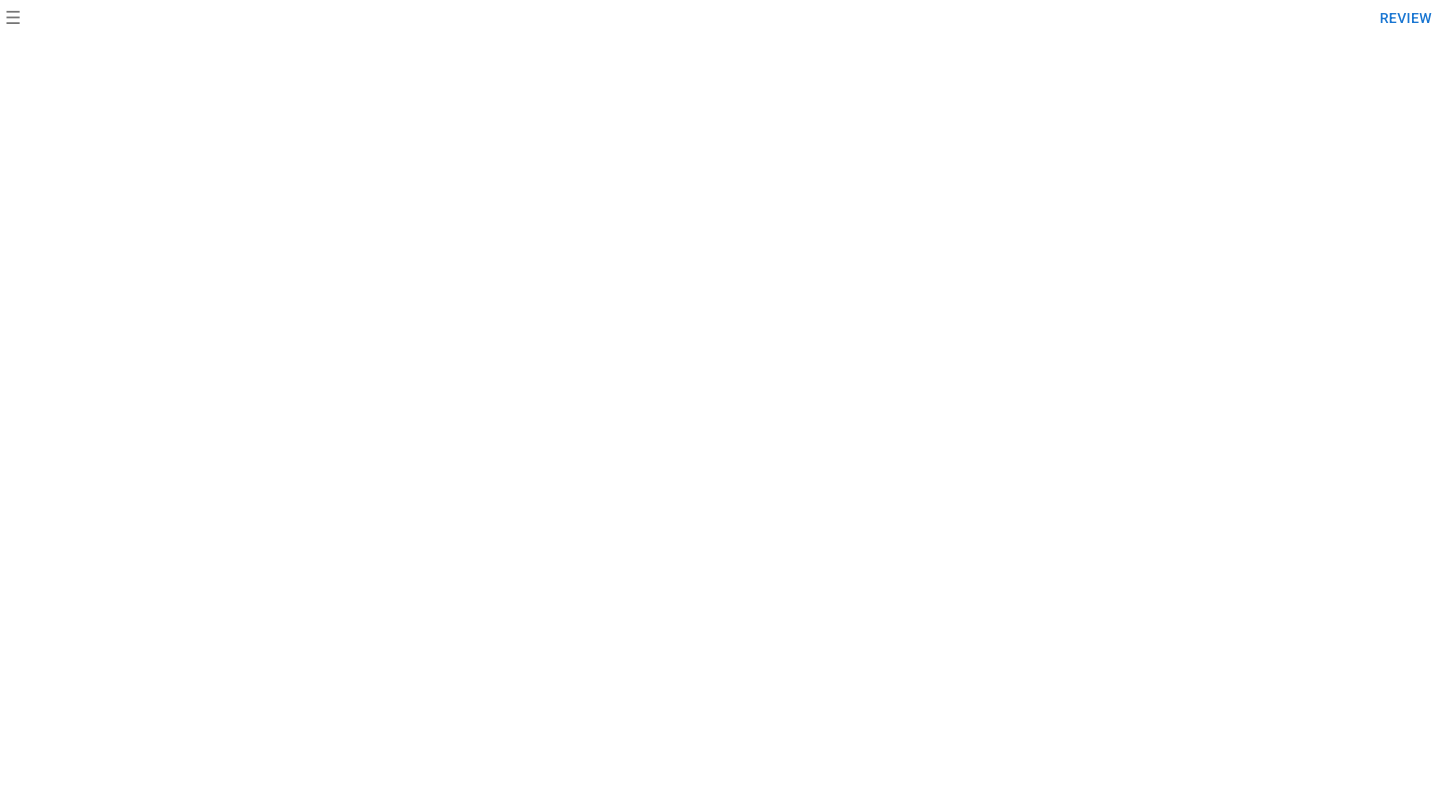
Test: GameToolbar › opens the Match Settings dialog pre-filled with the current config and saves edits
Later steps or results of the test are not shown.
Step 1. Click the button named "Open menu" → (13, 18), box [0,2,26,34]
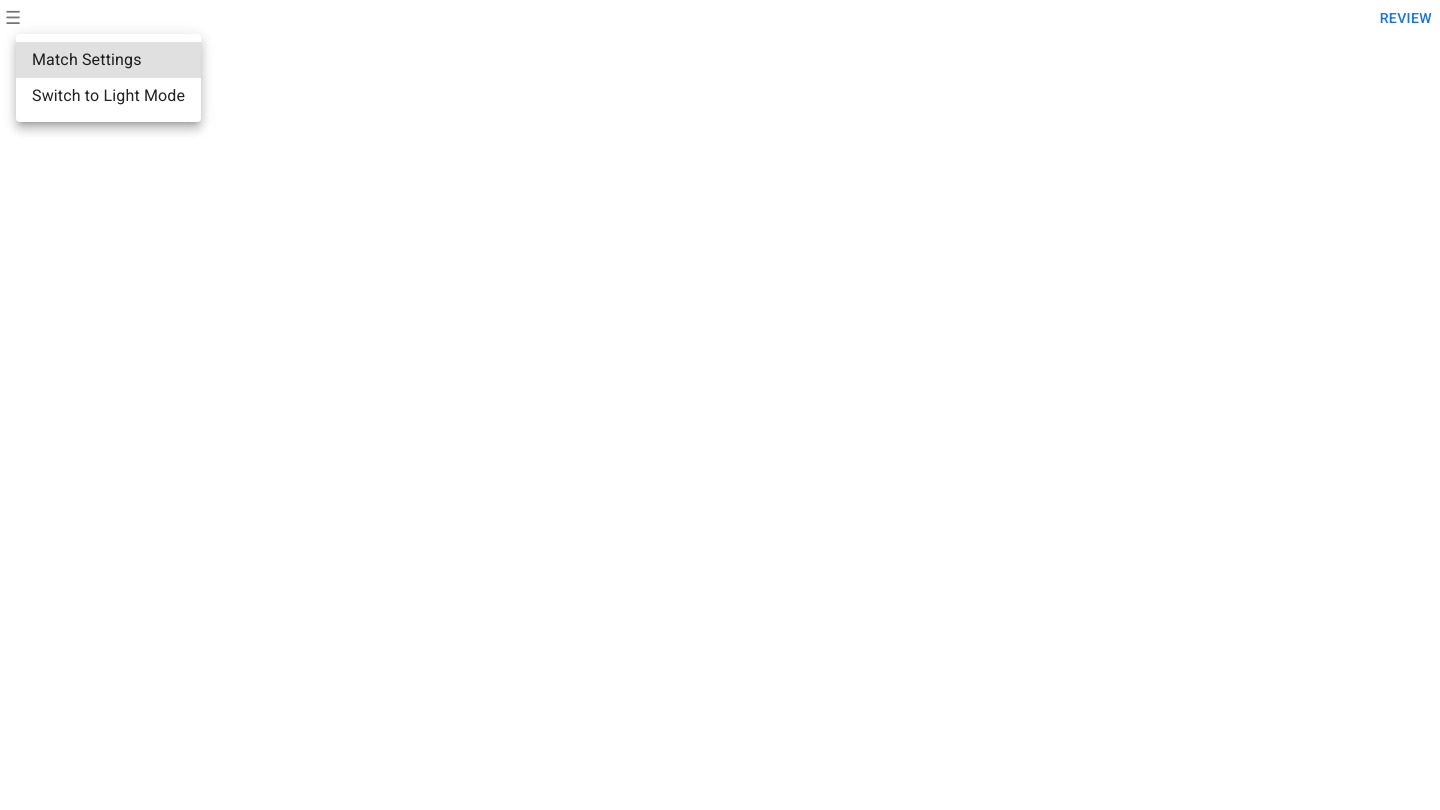
Step 2. Click the menu item "Match Settings" → (109, 60), box [16,42,201,78]
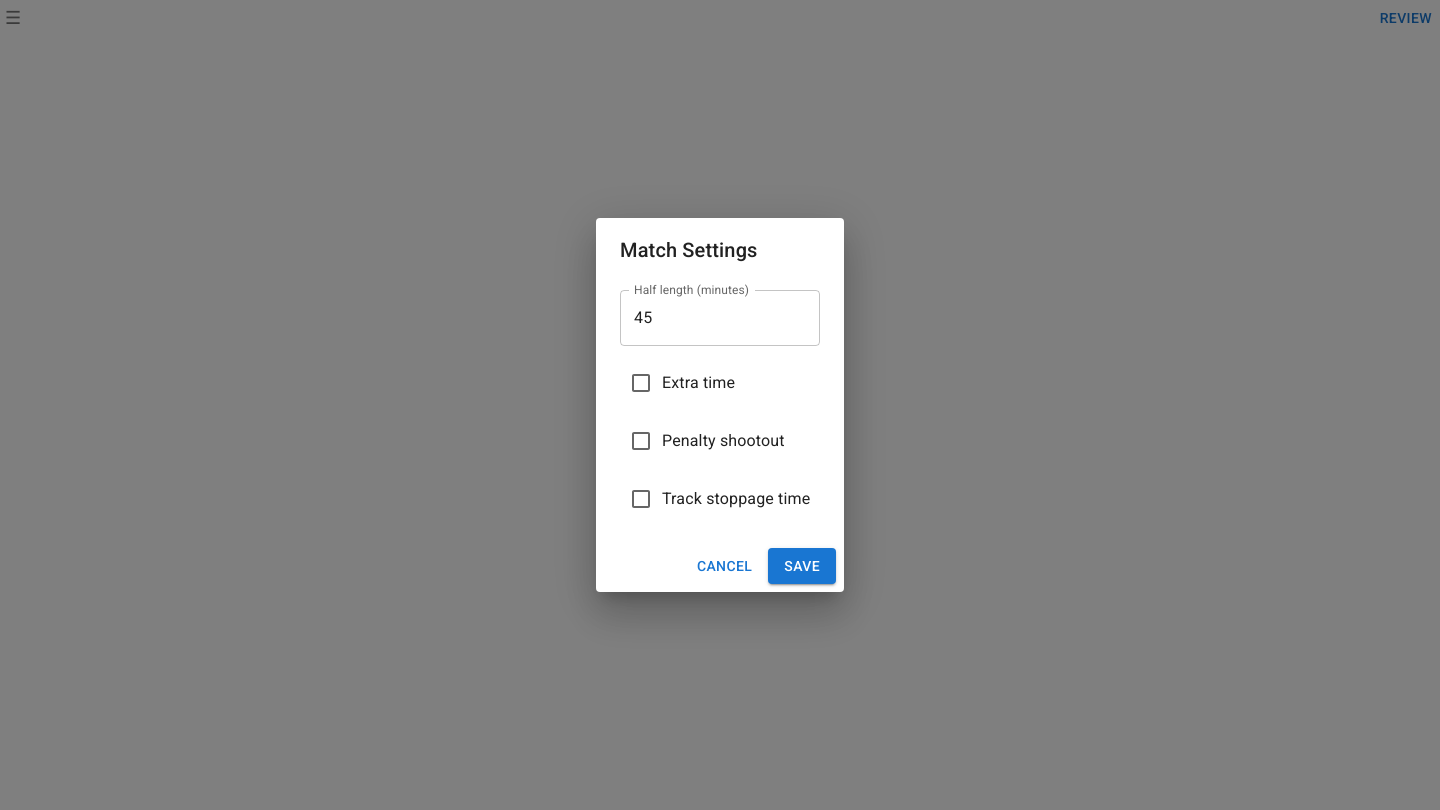
Now the field labelled "Half length (minutes)" holds "45"
Step 3. Replace the text in the field labelled "Half length (minutes)" with "30" → (720, 318), box [620,290,820,346]
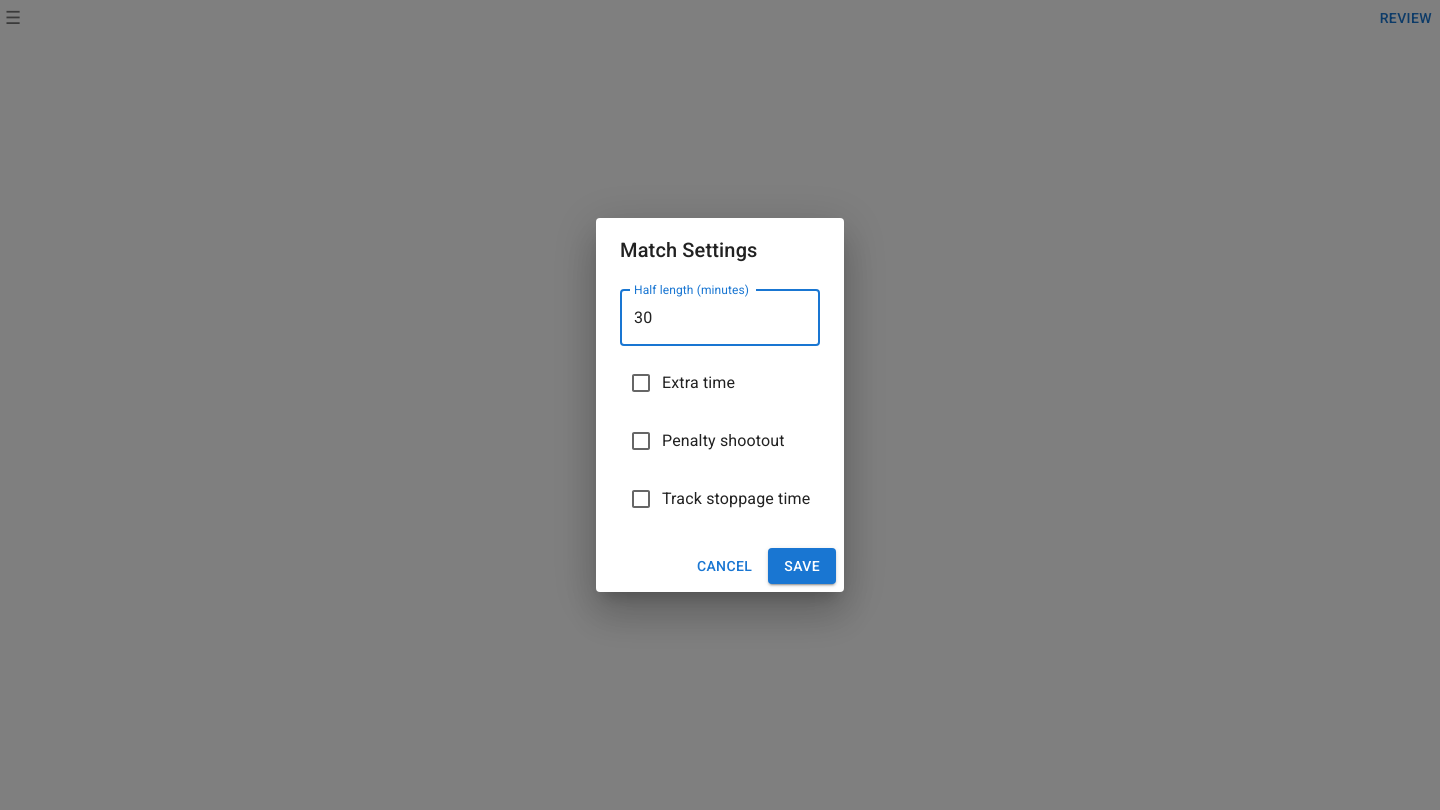
Step 4. Click the checkbox labelled "Extra time" → (682, 383), box [629,371,735,395]
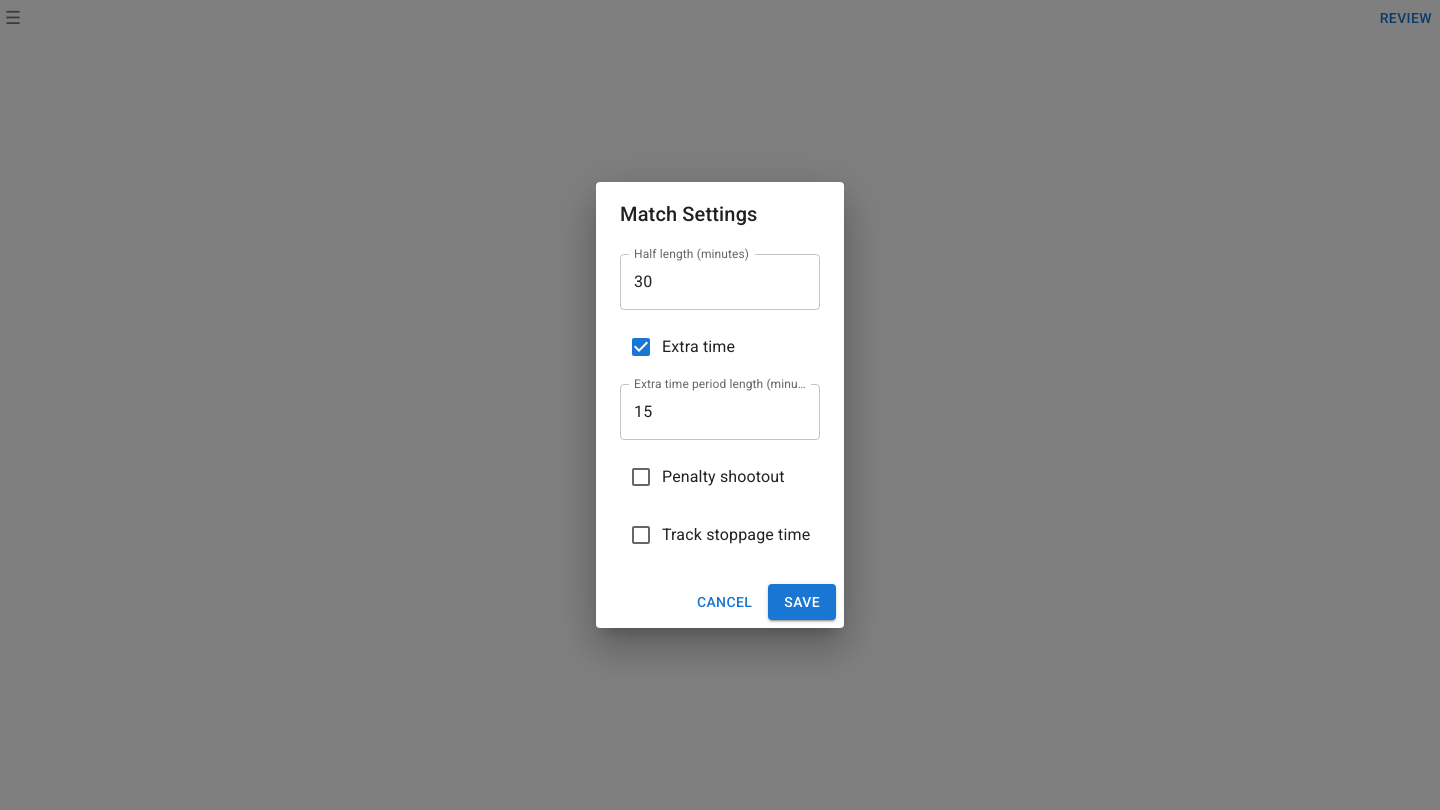
Now the field labelled "Extra time period length (minutes)" is shown, box [620,384,820,440]
